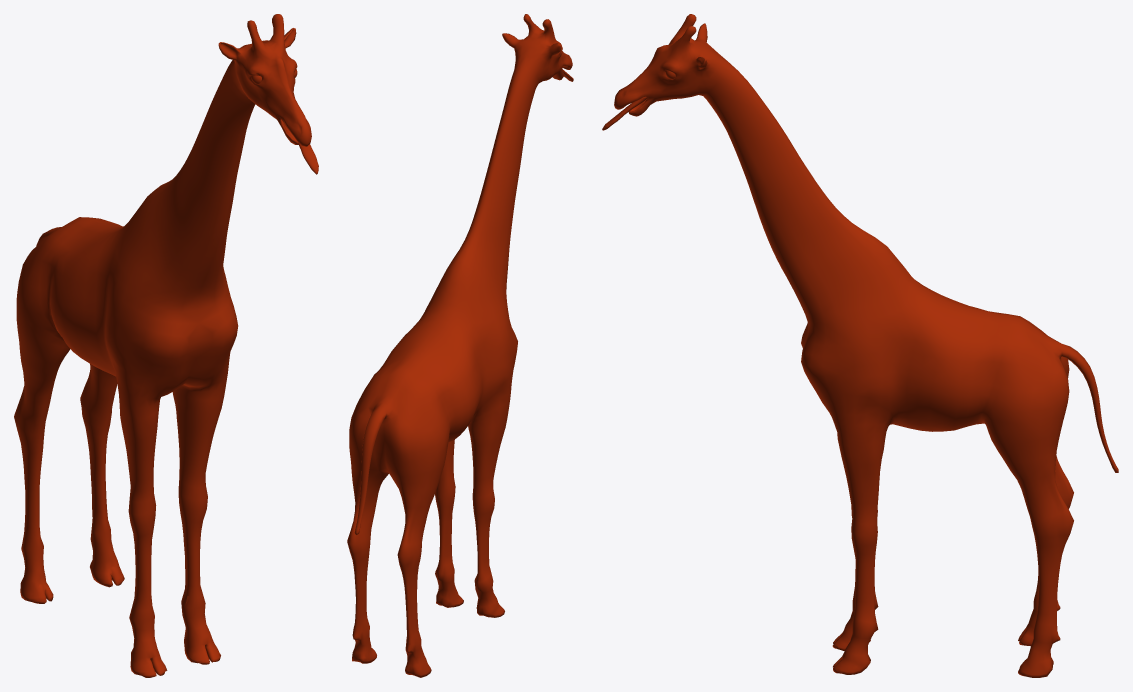
Rendered from Giraffe.obj.
3 renders of one model, left to right at view 1: azimuth 30°, elevation 25°; view 2: azimuth 150°, elevation 25°; view 3: azimuth 270°, elevation 25°, orthographic. The views are drawn at different scales.
Parts seen in each view (by area): view 1: Giraffe; view 2: Giraffe; view 3: Giraffe.
Part boxes in pixels (x1,y1,x2,y2): Giraffe: (14,14,318,677); Giraffe: (347,14,573,677); Giraffe: (602,14,1118,677).
Bounding box in the file's own units: 8.83 × 50.62 × 37.15.
